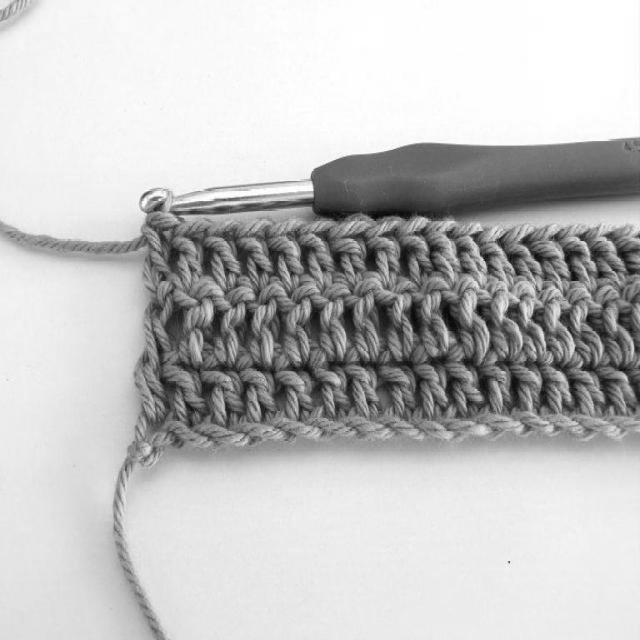ch: (124, 430, 175, 469), (163, 421, 215, 450), (541, 414, 594, 442), (187, 426, 251, 449), (470, 413, 531, 437), (376, 416, 431, 442), (571, 415, 628, 439), (511, 411, 561, 438), (340, 417, 395, 441), (410, 420, 465, 444), (233, 426, 296, 445), (440, 421, 500, 439), (284, 430, 336, 440), (610, 416, 638, 434), (281, 420, 319, 429)
dc: (173, 279, 222, 368), (476, 275, 521, 361), (441, 337, 486, 420), (326, 217, 375, 293), (213, 275, 253, 367), (590, 282, 632, 369), (499, 224, 546, 300), (440, 292, 491, 362), (200, 342, 241, 428), (536, 281, 576, 369), (370, 284, 414, 361), (524, 222, 570, 295), (273, 347, 316, 425), (563, 281, 602, 367), (169, 223, 214, 295), (165, 351, 205, 430), (348, 274, 383, 364), (296, 218, 338, 293), (309, 343, 348, 422), (237, 348, 278, 423), (266, 215, 303, 297), (510, 276, 545, 362), (249, 277, 282, 368), (410, 340, 447, 421), (235, 220, 275, 294), (362, 217, 404, 287), (283, 276, 316, 364), (556, 227, 599, 294), (423, 220, 463, 292), (314, 273, 345, 364), (597, 352, 639, 418), (587, 223, 627, 292), (377, 344, 414, 418), (395, 217, 431, 293), (202, 220, 240, 292), (563, 352, 605, 417), (343, 345, 379, 420), (410, 290, 449, 359), (478, 224, 516, 292), (539, 352, 576, 420), (452, 222, 489, 290), (134, 351, 168, 424), (482, 347, 512, 414), (612, 226, 640, 294), (511, 351, 539, 413)
